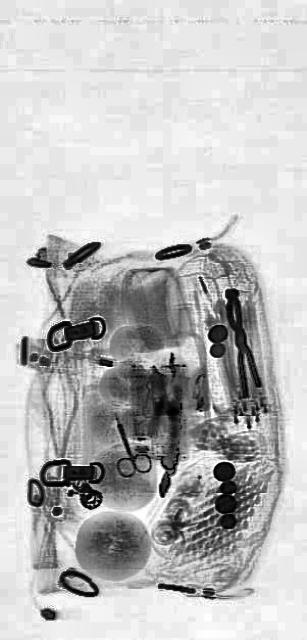Scissors: (105, 406, 151, 498)
